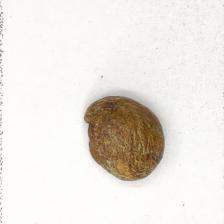NG: (107, 156, 157, 180), (85, 112, 97, 157)
